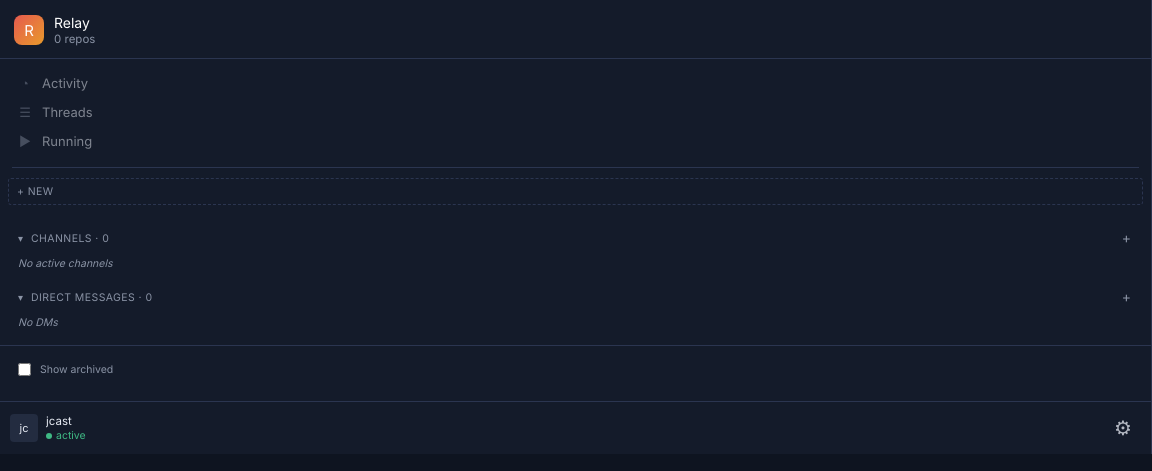
Test case: Sidebar unified + menu › clicking + New opens menu with New channel and New section
This screenshot has width=1152, height=471.
Click the button with aria-label "create new".
click(35, 192)  # box [8,178,1143,205]
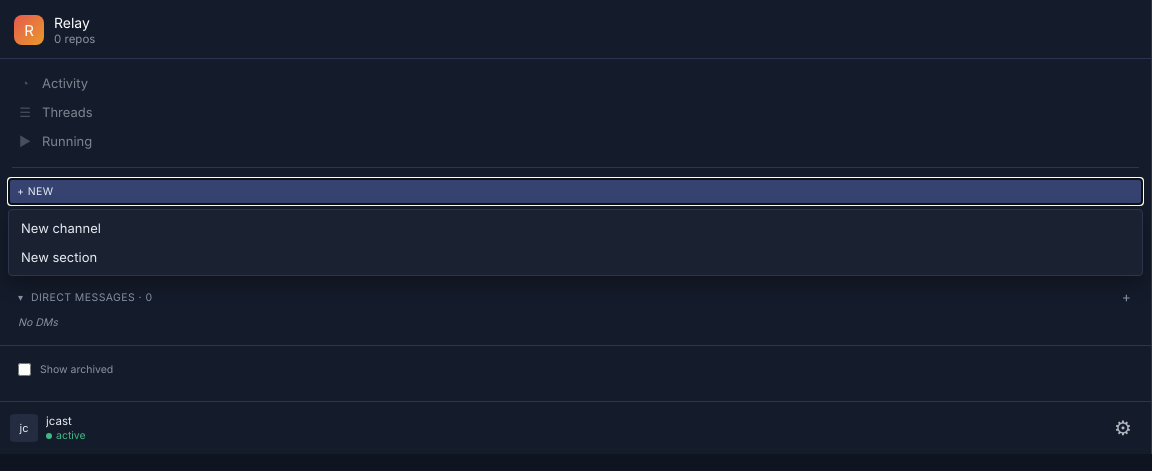
Expected: the menu item "New channel" is shown, [13,214,1138,242]
Expected: the menu item "New section" is shown, [13,243,1138,271]
